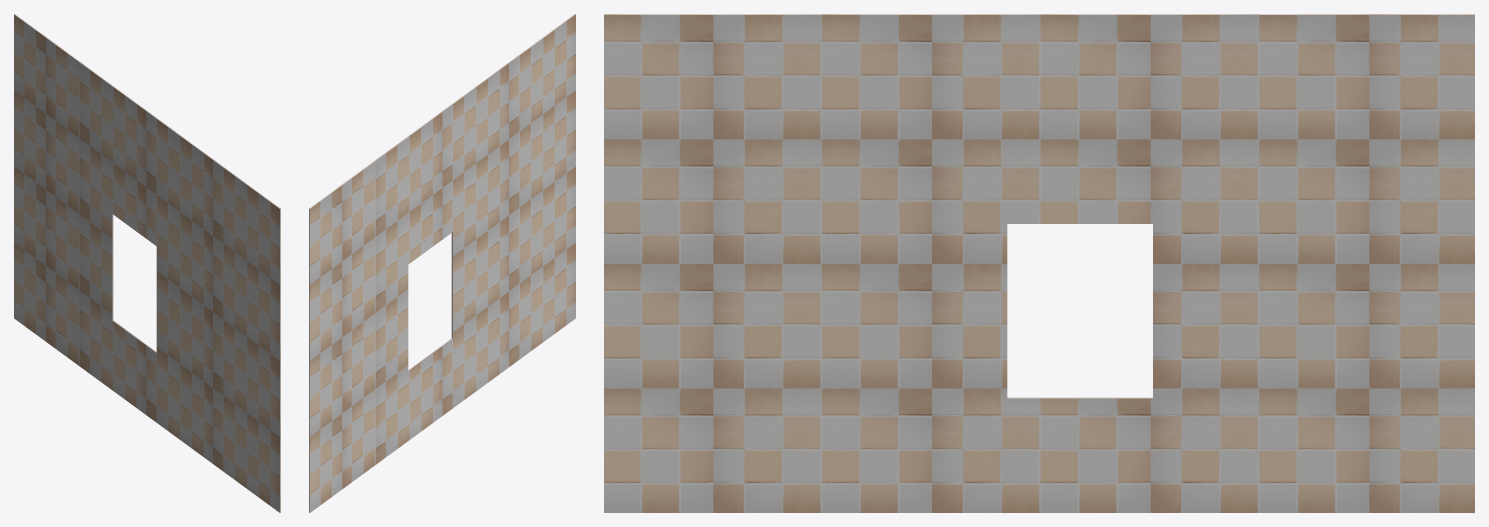
The model's file is window_wall_blender_v5.fbx.
3 renders of one model, left to right at view 1: azimuth 30°, elevation 25°; view 2: azimuth 150°, elevation 25°; view 3: azimuth 270°, elevation 25°, orthographic. The views are drawn at different scales.
Visible parts, largest first — view 1: Cube__3_; view 2: Cube__3_; view 3: Cube__3_.
Boxes of the visible parts, x1=… form: Cube__3_: x1=14, y1=14, x2=280, y2=512; Cube__3_: x1=309, y1=14, x2=575, y2=512; Cube__3_: x1=604, y1=14, x2=1474, y2=512.
Bounding box in the file's own units: 2.48 × 653 × 1035.
